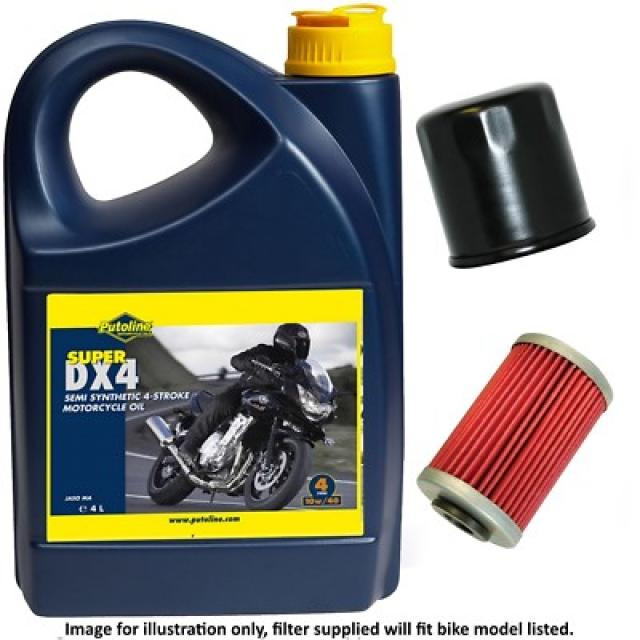motor_oil: (2, 5, 402, 619)
oil_filter: (414, 325, 616, 555), (417, 76, 599, 276)
